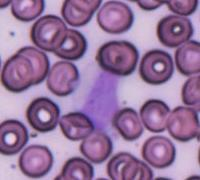L: (80, 69, 123, 131)
